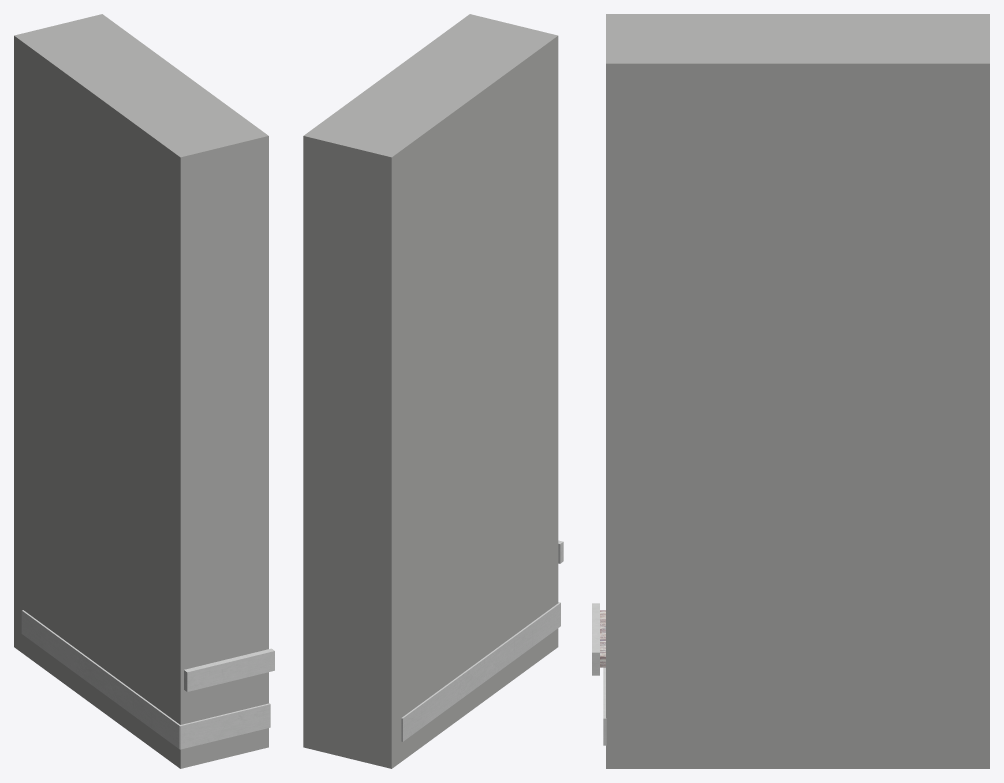
Rendered from Interior_Facde_Wall_parts1.obj.
The picture shows the model from 3 angles, left to right: view 1: azimuth 30°, elevation 25°; view 2: azimuth 150°, elevation 25°; view 3: azimuth 270°, elevation 25°; orthographic projection. The views are drawn at different scales.
Visible parts, largest first — view 1: Part5, Part1, Part3, Part4; view 2: Part5, Part1; view 3: Part5.
Part boxes in pixels (left/top/right/bottom): Part5: left=14, top=14, right=268, bottom=768; Part1: left=21, top=610, right=181, bottom=748; Part3: left=179, top=703, right=270, bottom=749; Part4: left=184, top=648, right=274, bottom=691; Part5: left=303, top=14, right=558, bottom=768; Part1: left=401, top=602, right=560, bottom=741; Part5: left=606, top=14, right=989, bottom=768.
Bounding box in the file's own units: 3.79 × 24.43 × 12.49.
Materials: 3 (2 with a texture image).
